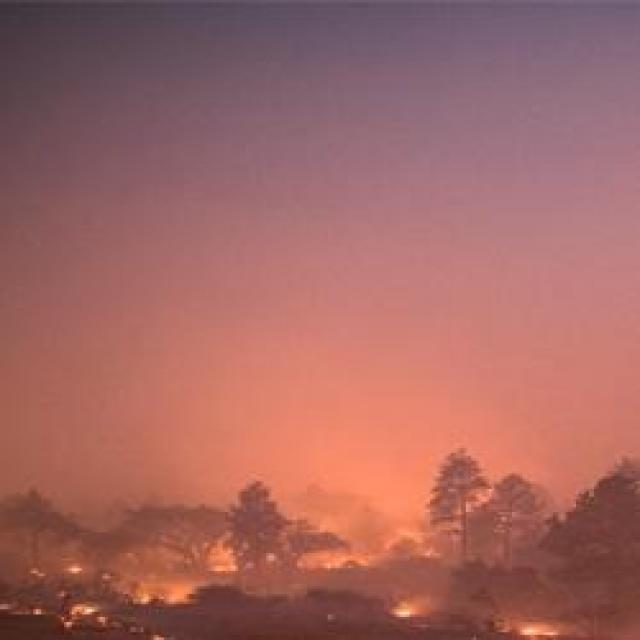fire: (143, 589, 191, 613), (387, 599, 432, 622), (209, 548, 239, 582), (516, 619, 560, 640), (322, 555, 367, 575), (71, 598, 100, 622), (62, 560, 94, 580), (13, 599, 41, 617)
smoke: (326, 319, 531, 535), (44, 353, 191, 543), (229, 441, 281, 532), (572, 516, 619, 612), (215, 603, 288, 633), (318, 586, 357, 630), (5, 506, 26, 564), (460, 575, 488, 618), (259, 563, 286, 598)
